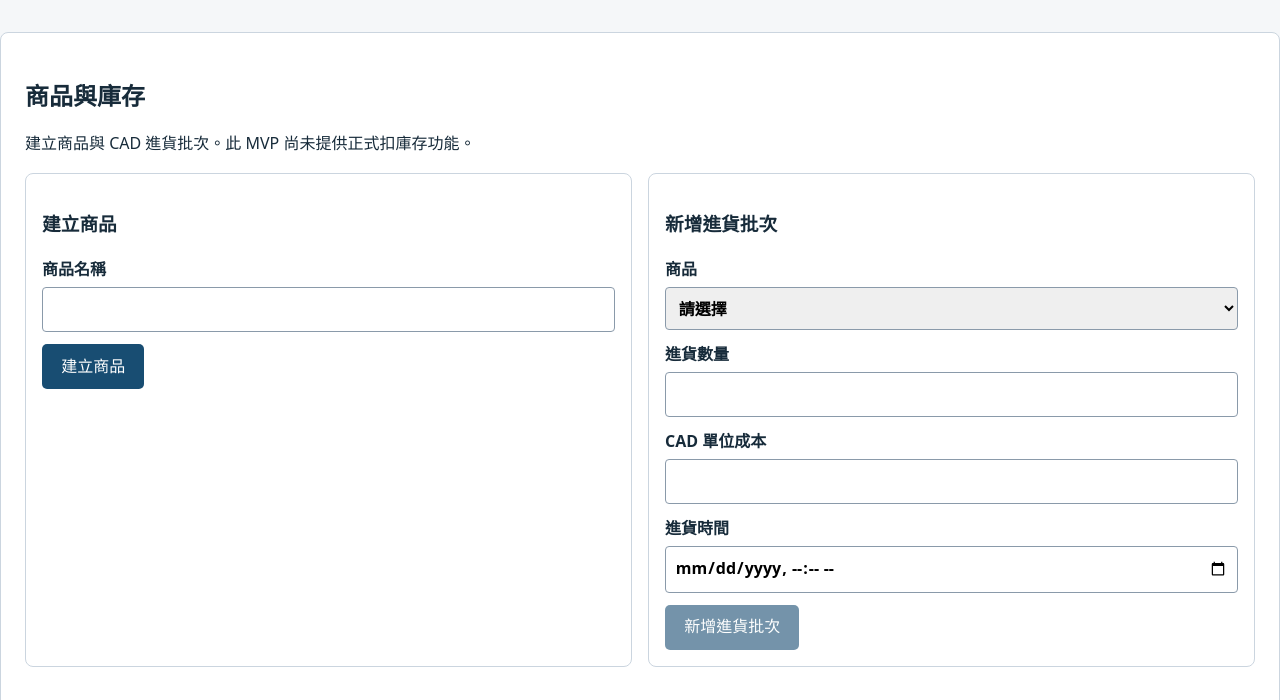
Test: 商品、進貨與庫存 › 可建立商品並重新載入庫存
This screenshot has width=1280, height=700.
Type " Product A " into the field labelled "商品名稱" at (328, 310), box left=42, top=287, right=615, bottom=332
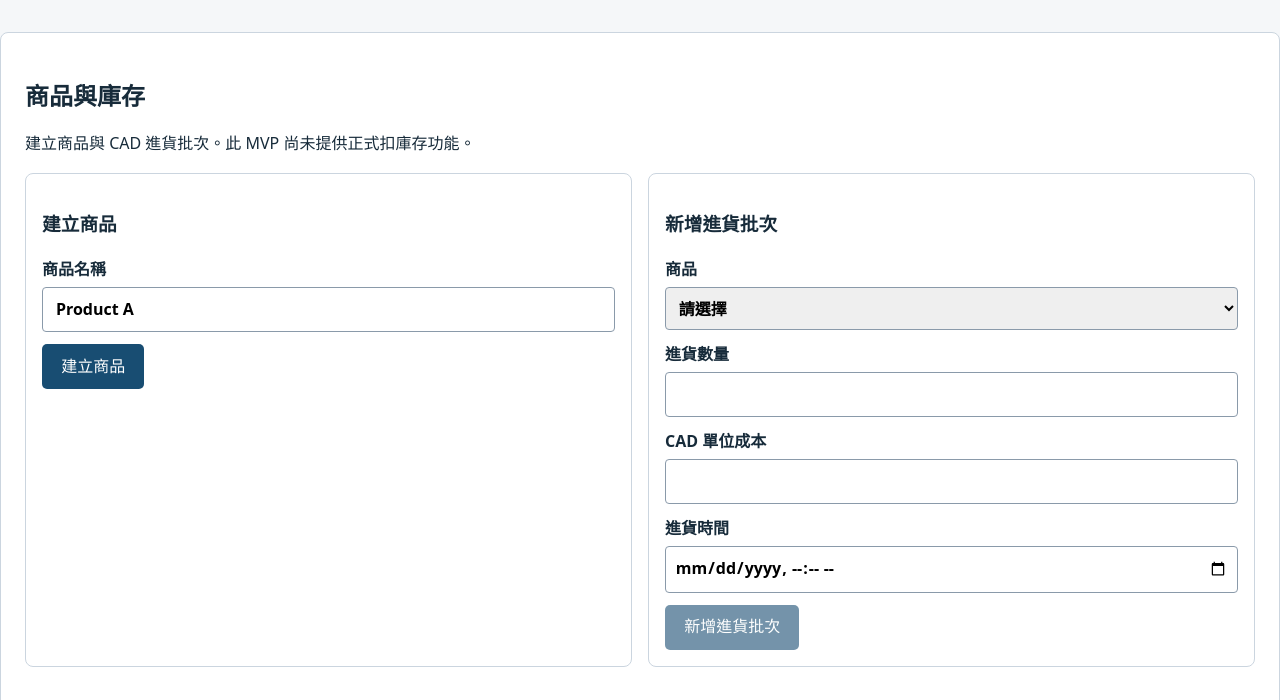
Click the button "建立商品" at (93, 366), box left=42, top=344, right=144, bottom=389
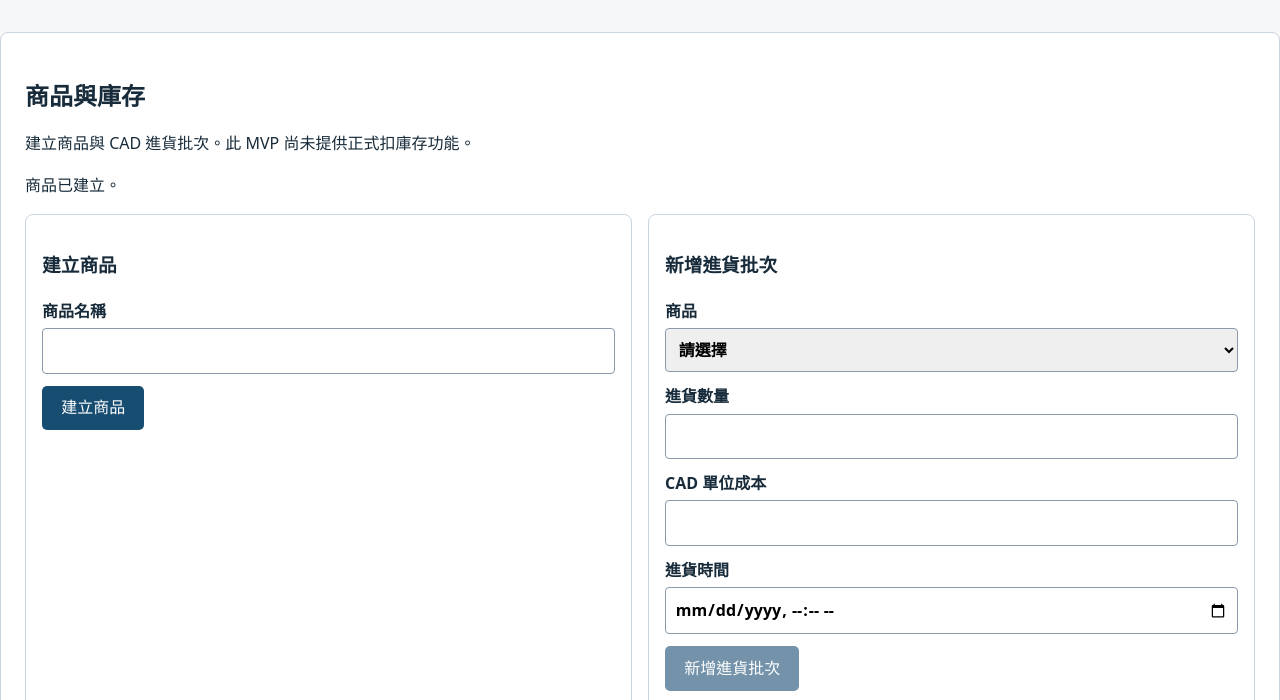
Check: the text "商品已建立。" is shown, box left=25, top=174, right=121, bottom=196
